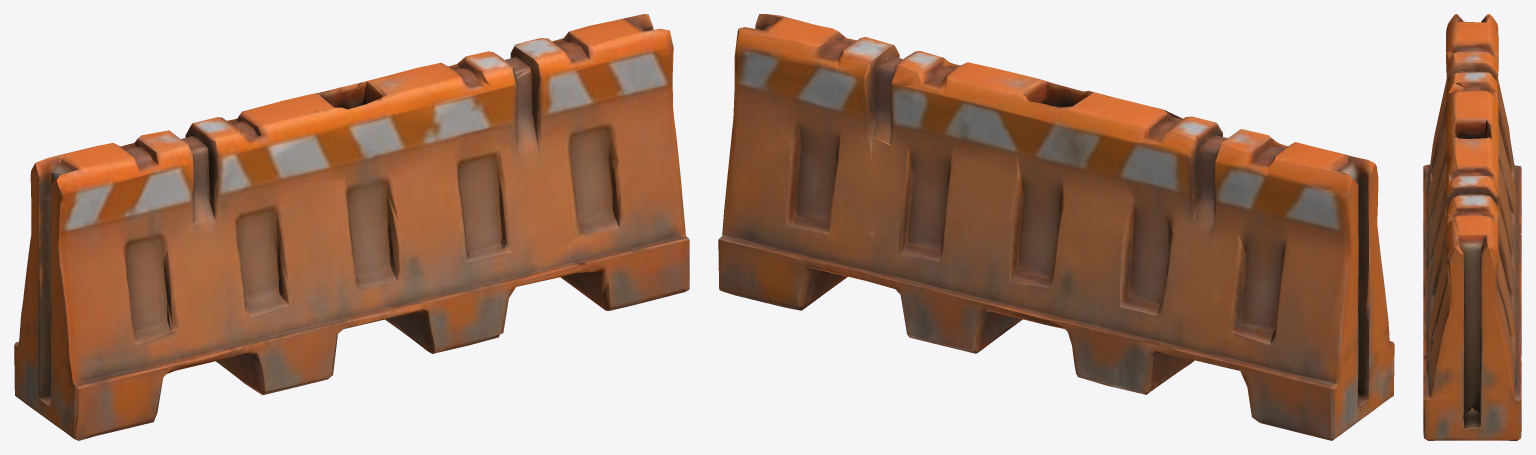
File: plastic_road_barrier.glb
3 views of the same model, side by side, from view 1: azimuth 30°, elevation 25°; view 2: azimuth 150°, elevation 25°; view 3: azimuth 270°, elevation 25° (orthographic). The views are drawn at different scales.
Visible parts, largest first — view 1: turn; view 2: turn; view 3: turn.
Boxes of the visible parts, x1,y1,x2,y2 form: turn: [14, 14, 689, 440]; turn: [718, 14, 1394, 440]; turn: [1423, 14, 1521, 440].
Size of the model in its own units: 2.55 by 0.9999 by 0.454.
Materials: 1 (1 with a texture image).
